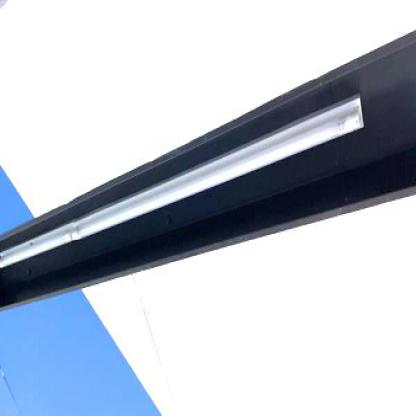light_off: (0, 67, 370, 322)
